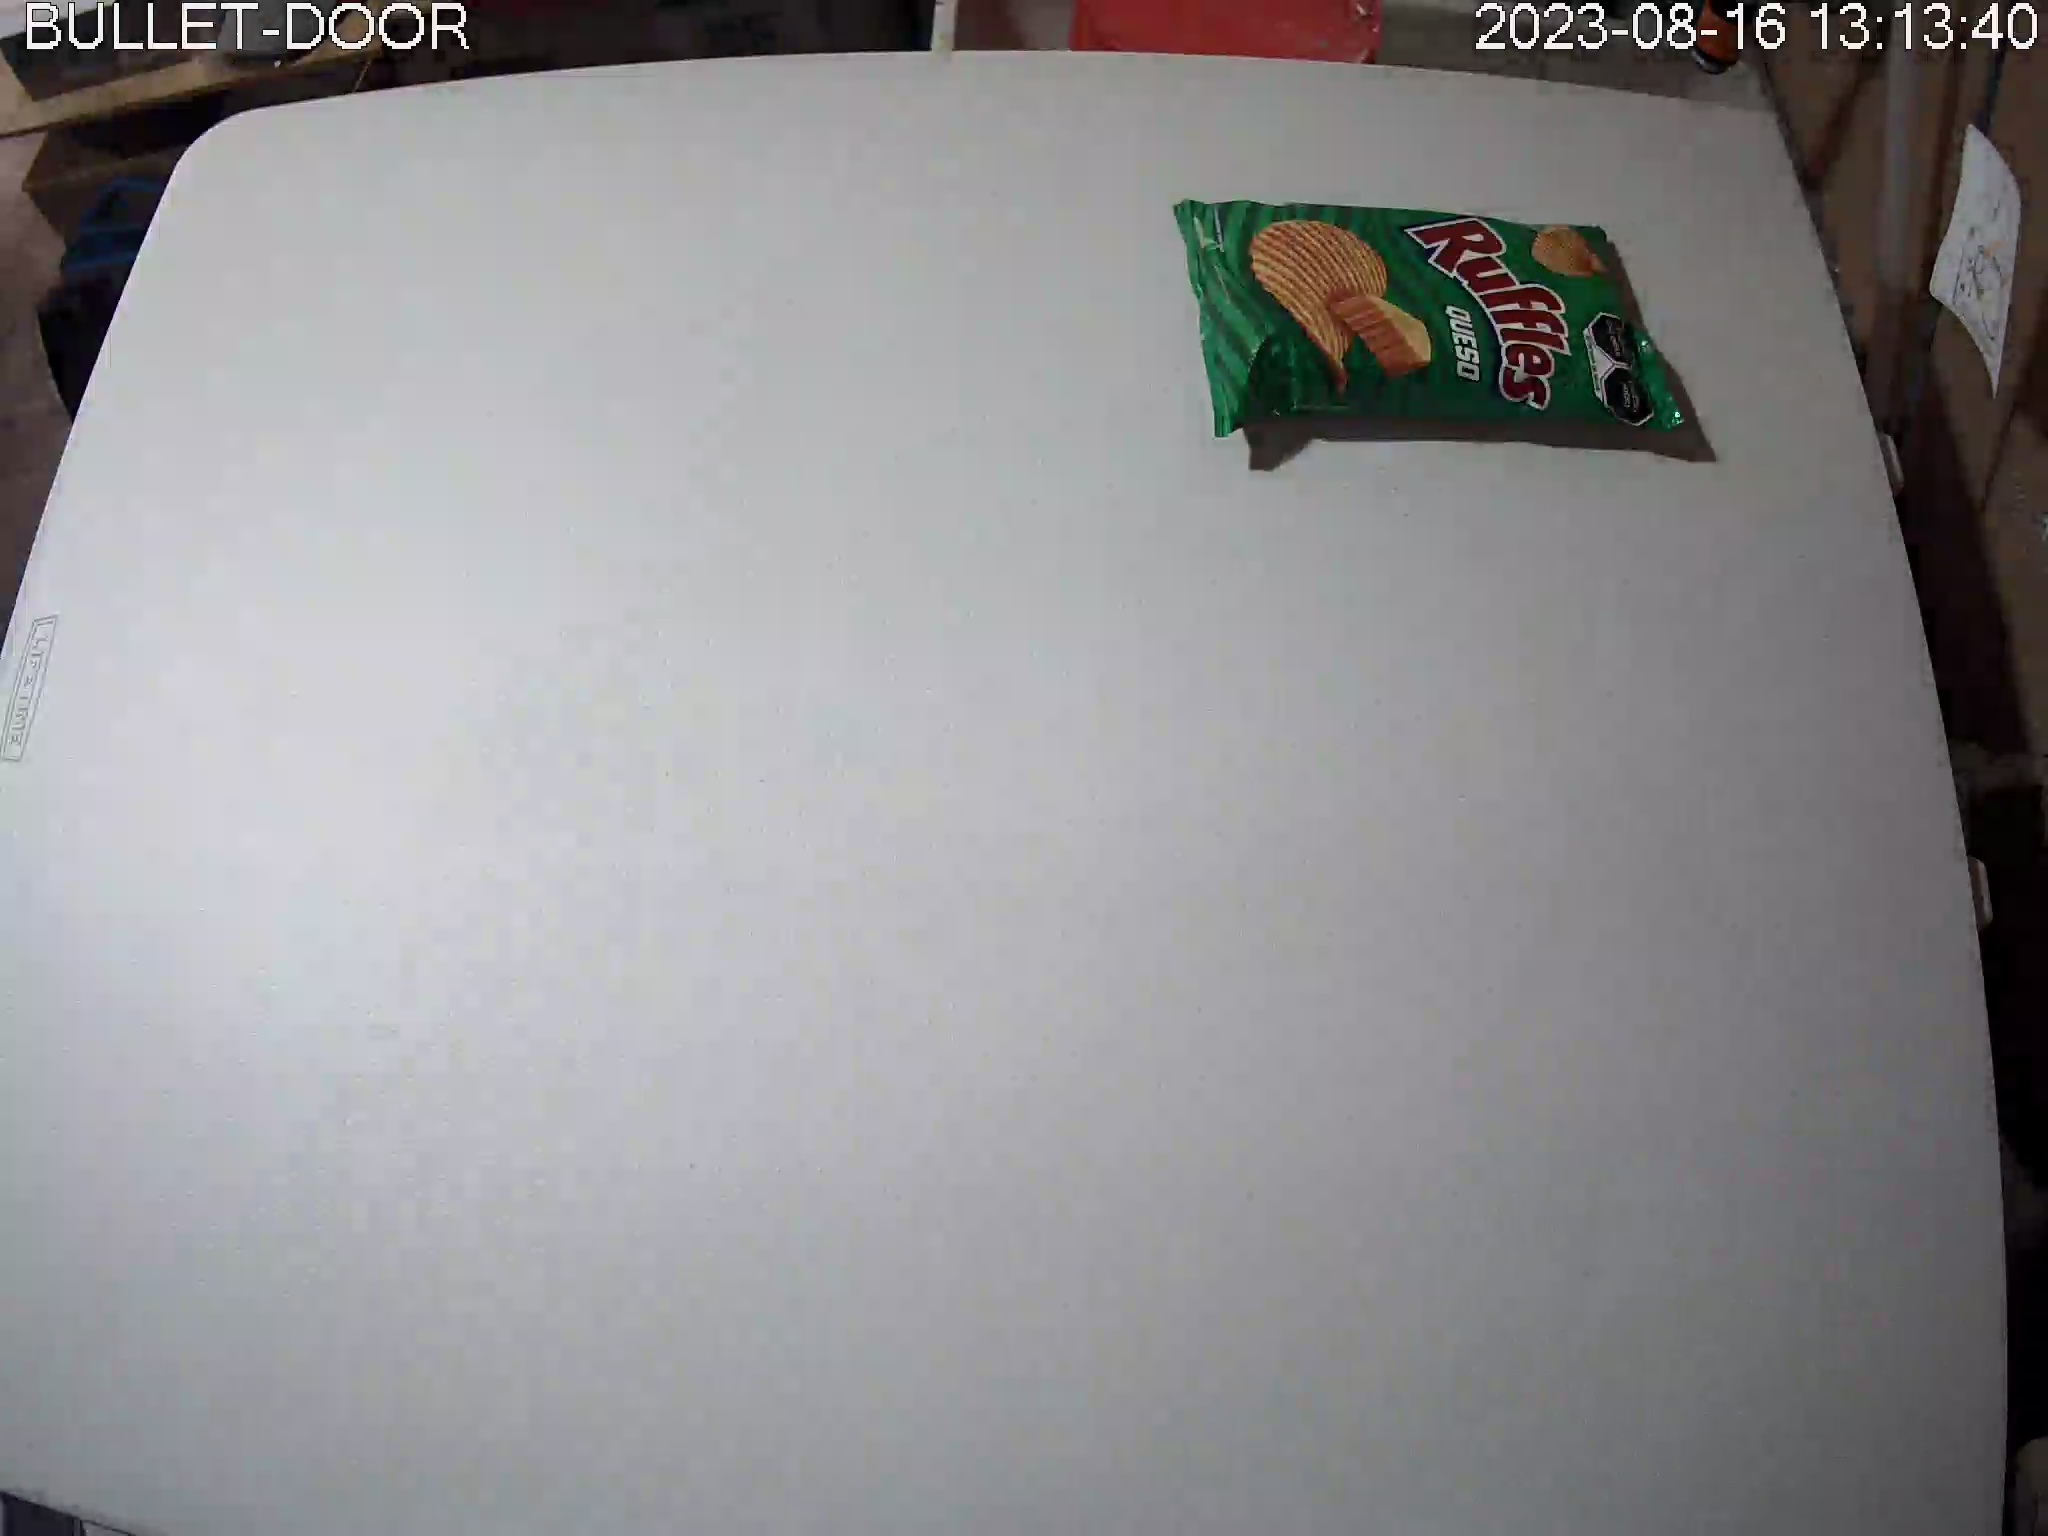RufflesQ_48_F: (1172, 198, 1688, 445)
